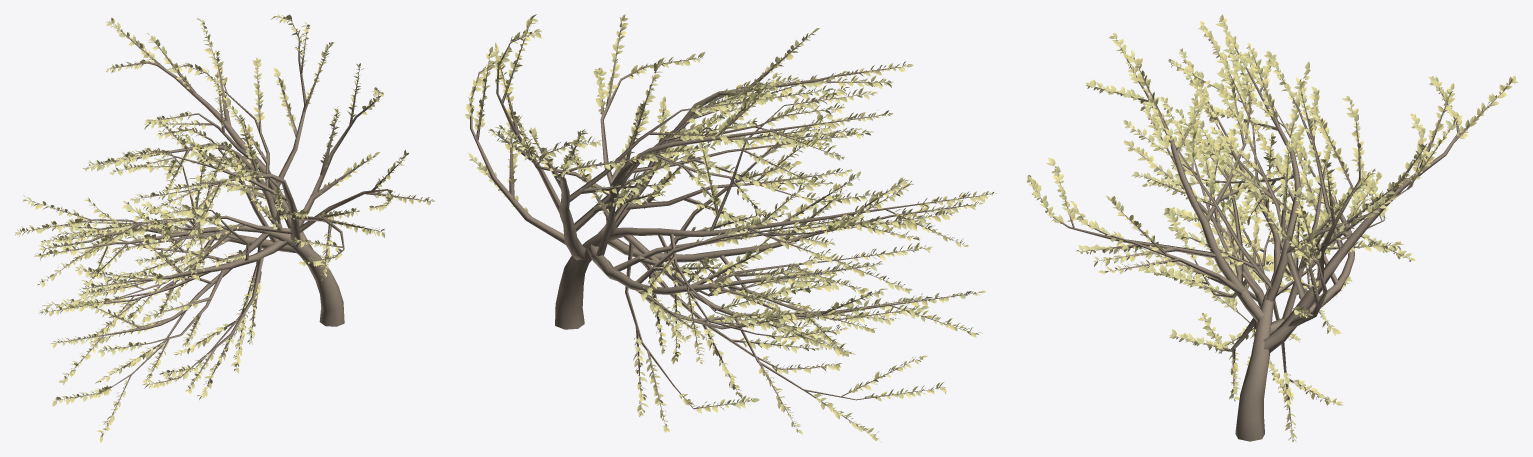
The model's file is hawthorn.glb.
3 views of the same model, side by side, from view 1: azimuth 30°, elevation 25°; view 2: azimuth 150°, elevation 25°; view 3: azimuth 270°, elevation 25° (orthographic). The views are drawn at different scales.
Parts seen in each view (by area): view 1: hawthorn; view 2: hawthorn; view 3: hawthorn.
Part boxes in pixels (x1=…): hawthorn: x1=15, y1=14, x2=434, y2=442; hawthorn: x1=465, y1=14, x2=996, y2=442; hawthorn: x1=1027, y1=14, x2=1518, y2=441.
Size of the model in its own units: 8.45 by 6.74 by 7.73.
